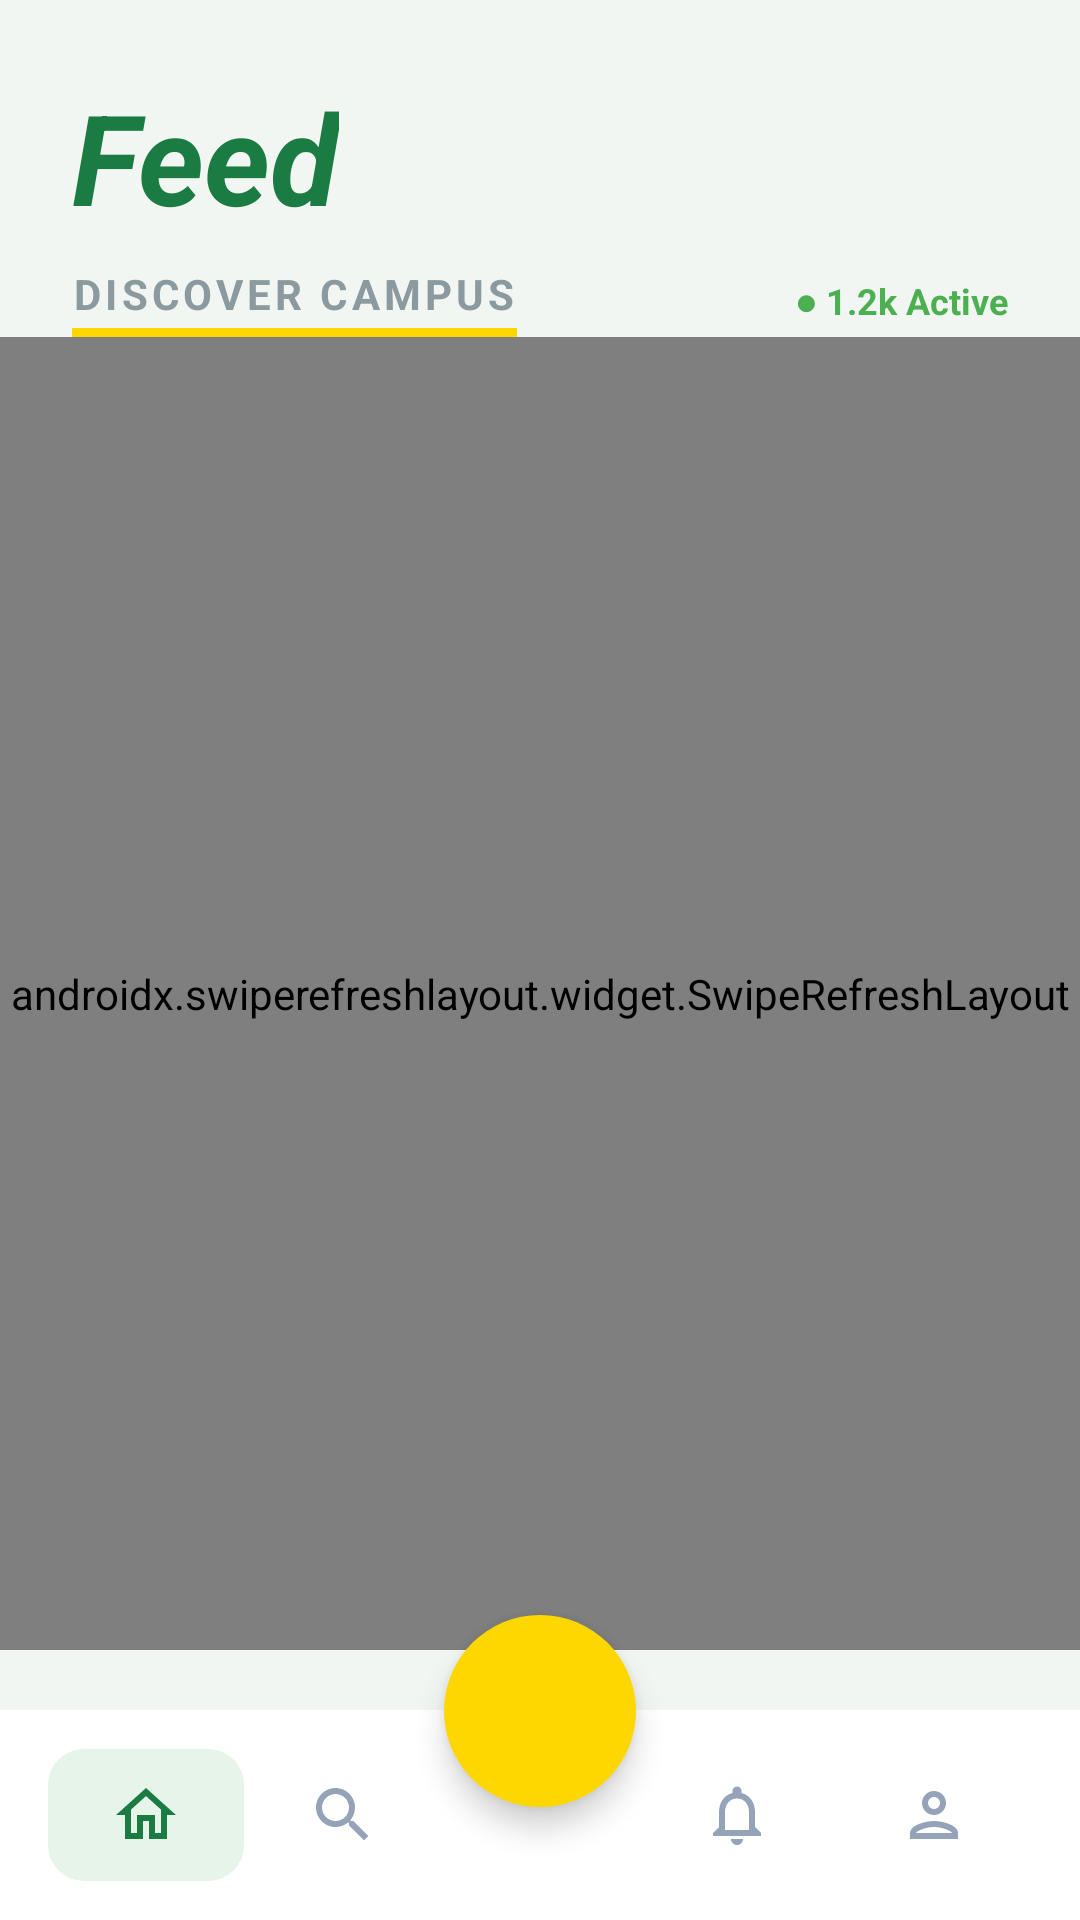

Named icons in this screenshot (1080x1920) and their bounding boxes, (x1, y1, x2, y2):
Home: (116, 1788, 176, 1839)
Notifications: (713, 1786, 761, 1845)
Profile: (910, 1791, 958, 1839)
Search: (316, 1788, 368, 1840)
